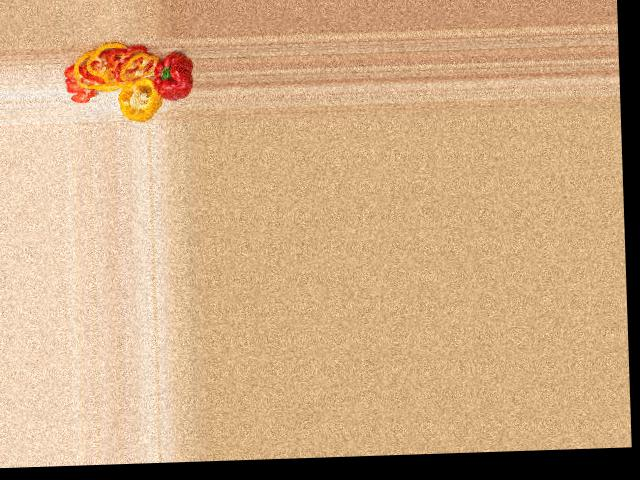bell_pepper: (115, 78, 161, 124)
